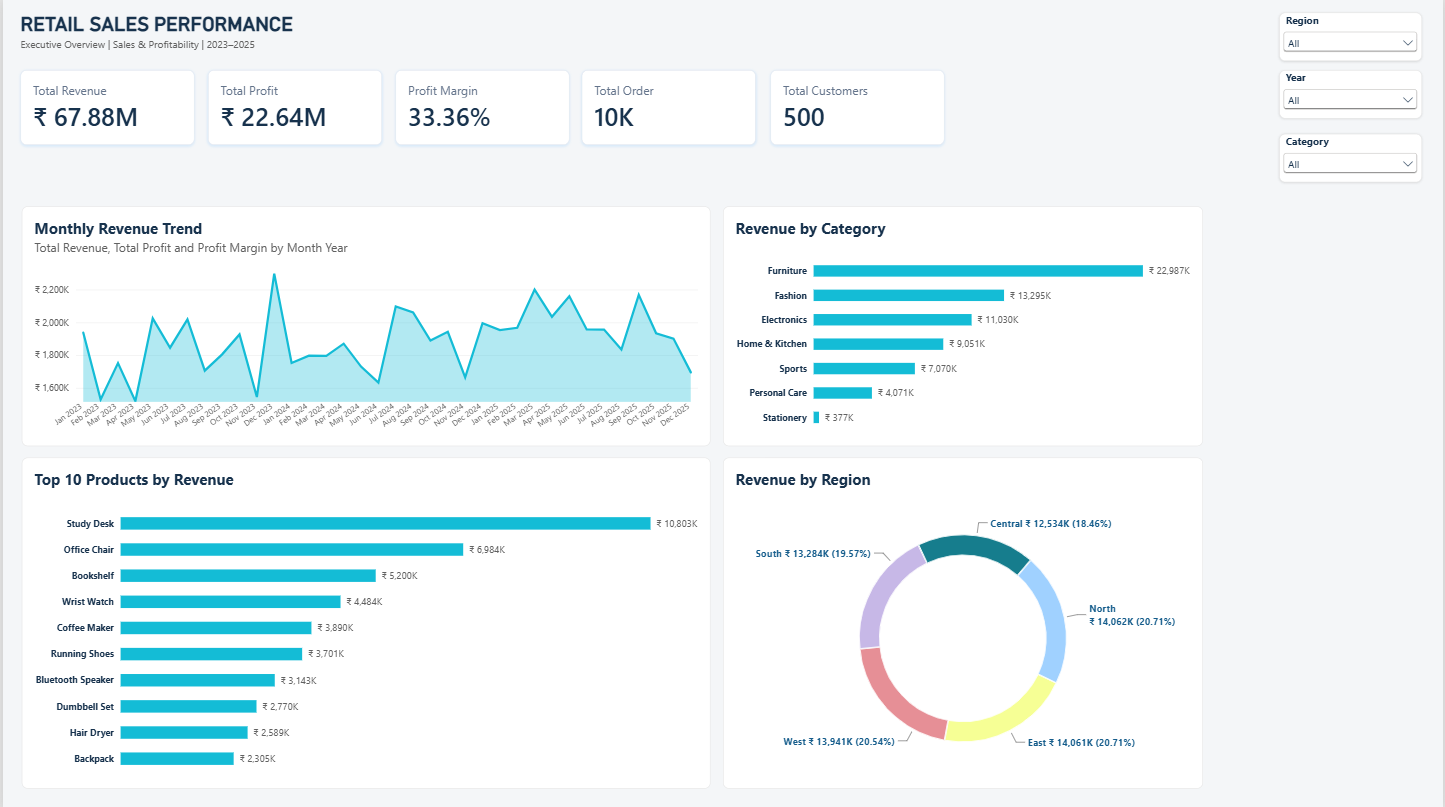

This screenshot's page, from the dashboard's own definition file:
{"tool":"powerbi","page":{"name":"Executive Overview","canvas":[1920,1080],"ordinal":0},"visuals":[{"type":"textbox","title":"RETAIL SALES PERFORMANCE","box":[24,16,1232,54],"z":0},{"type":"slicer","title":"Year","fields":{"Values":["Date_Table.Year"]},"box":[1702,94,190,65],"z":1000},{"type":"slicer","fields":{"Values":["retail_sales_db sales.Region"]},"box":[1702,16,190,65],"z":2000},{"type":"slicer","fields":{"Values":["retail_sales_db sales.Category"]},"box":[1702,178,190,65],"z":3000},{"type":"cardVisual","fields":{"Data":["retail_sales_db sales.Total Revenue"]},"box":[23.3,93.3,232,100],"z":4000},{"type":"cardVisual","fields":{"Data":["retail_sales_db sales.Total Profit"]},"box":[273.3,93.3,232,100],"z":5000},{"type":"cardVisual","fields":{"Data":["retail_sales_db sales.Profit Margin"]},"box":[523.3,93.3,232,100],"z":6000},{"type":"cardVisual","fields":{"Data":["retail_sales_db sales.Total Order"]},"box":[771.7,93.3,232,100],"z":7000},{"type":"cardVisual","fields":{"Data":["retail_sales_db sales.Total Customers"]},"box":[1023.3,93.3,232,100],"z":8000},{"type":"lineChart","title":"Monthly Revenue Trend","fields":{"Category":["Date_Table.Month Year"],"Y":["retail_sales_db sales.Total Revenue"]},"box":[24.3,275.7,918.6,320],"z":9000},{"type":"clusteredBarChart","title":"Revenue by Category","fields":{"Category":["retail_sales_db sales.Category"],"Y":["retail_sales_db sales.Total Revenue"]},"box":[960,275.7,640,320],"z":10000},{"type":"donutChart","title":"Revenue by Region","fields":{"Category":["retail_sales_db sales.Region"],"Y":["retail_sales_db sales.Total Revenue"]},"box":[960,610,640,441.4],"z":11000},{"type":"clusteredBarChart","title":"Top 10 Products by Revenue","fields":{"Category":["retail_sales_db sales.Product_Name"],"Y":["retail_sales_db sales.Total Revenue"]},"box":[24.3,610,918.6,441.4],"z":12000}]}

Visuals, with their boxes in screenshot pixels (x1, y1, x2, y2), scaled from the page's 1920x1080 canvas onto the 1445x807 screenshot:
"RETAIL SALES PERFORMANCE" textbox: [18, 12, 945, 52]
"Year" slicer: [1281, 70, 1424, 119]
slicer - retail_sales_db sales.Region: [1281, 12, 1424, 61]
slicer - retail_sales_db sales.Category: [1281, 133, 1424, 182]
cardVisual - retail_sales_db sales.Total Revenue: [18, 70, 192, 144]
cardVisual - retail_sales_db sales.Total Profit: [206, 70, 380, 144]
cardVisual - retail_sales_db sales.Profit Margin: [394, 70, 568, 144]
cardVisual - retail_sales_db sales.Total Order: [581, 70, 755, 144]
cardVisual - retail_sales_db sales.Total Customers: [770, 70, 945, 144]
"Monthly Revenue Trend" lineChart: [18, 206, 710, 445]
"Revenue by Category" clusteredBarChart: [722, 206, 1204, 445]
"Revenue by Region" donutChart: [722, 456, 1204, 786]
"Top 10 Products by Revenue" clusteredBarChart: [18, 456, 710, 786]
